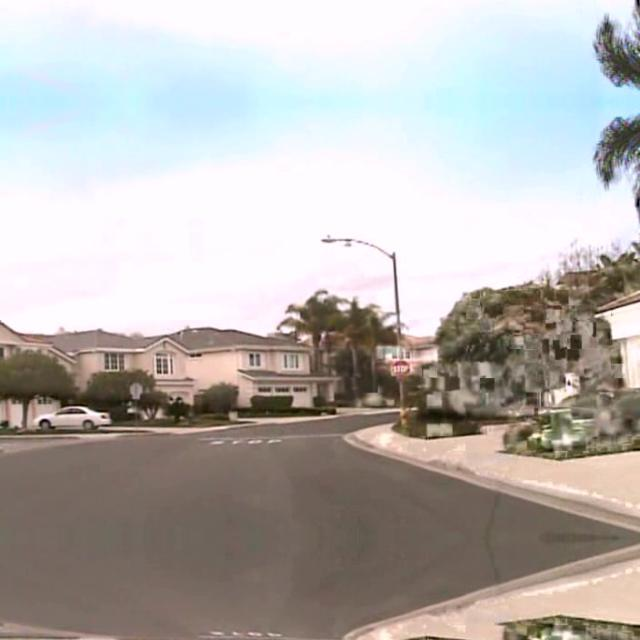stop: (390, 357, 410, 377)
